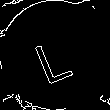L_N: (31, 26, 79, 84)
